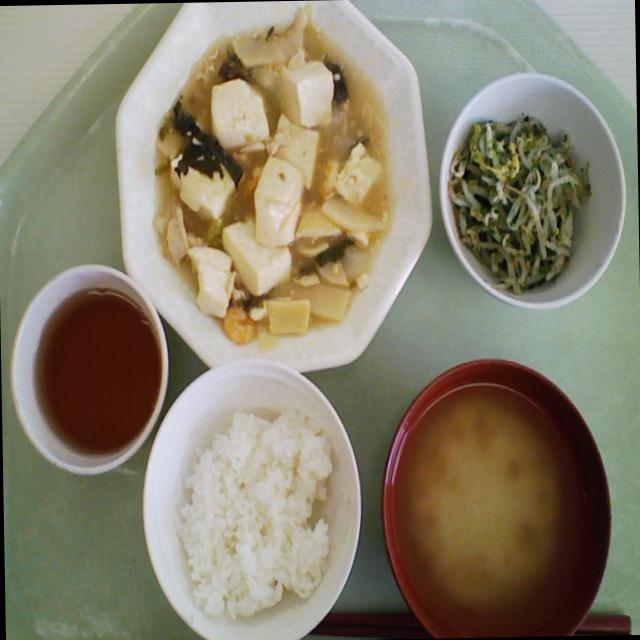Rice: (157, 399, 356, 633)
